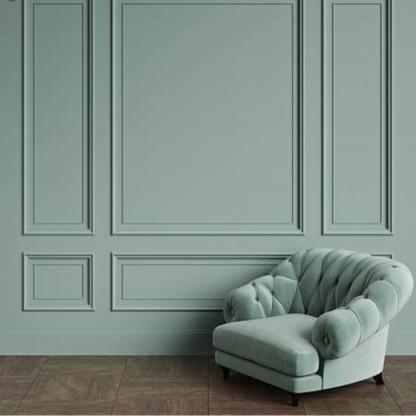Futec frame: (104, 2, 309, 322), (17, 3, 98, 320), (314, 0, 402, 260)
